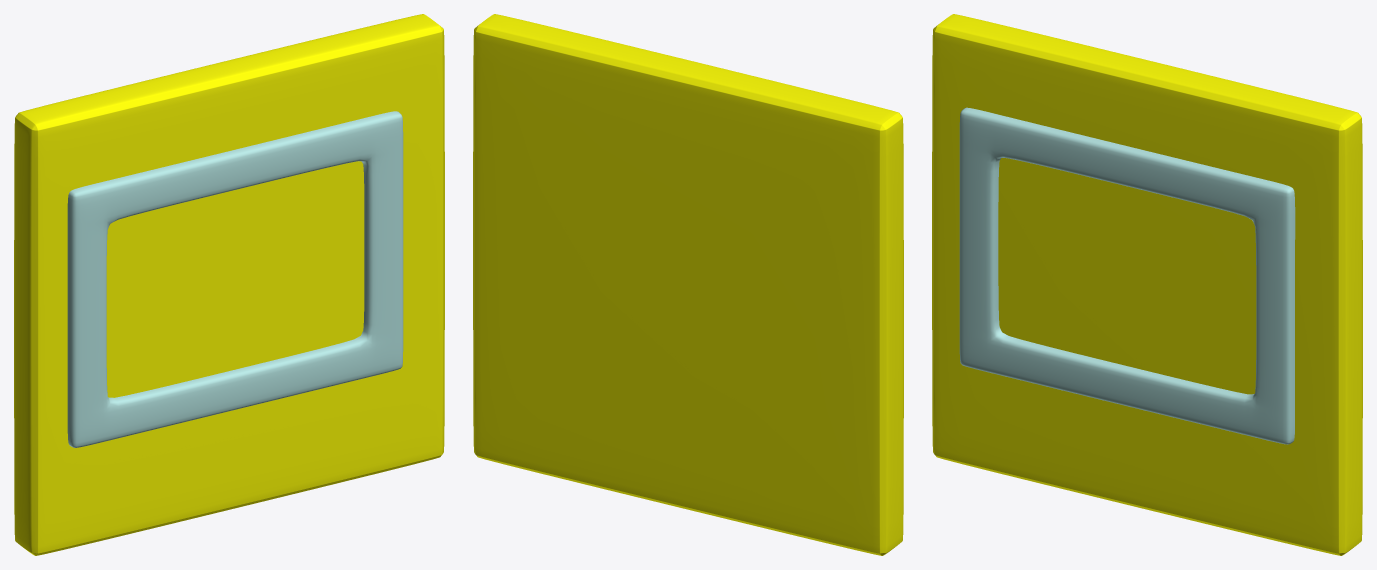
The picture shows the model from 3 angles, left to right: view 1: azimuth 30°, elevation 25°; view 2: azimuth 150°, elevation 25°; view 3: azimuth 330°, elevation 25°; orthographic projection.
Parts seen in each view (by area): view 1: polySurface1413; view 2: polySurface1413; view 3: polySurface1413.
Part boxes in pixels (box(x1,y1,x2,y2)): polySurface1413: box(14, 14, 444, 555); polySurface1413: box(473, 14, 903, 555); polySurface1413: box(932, 14, 1362, 555).
Size of the model in its own units: 0.9995 by 0.9995 by 0.1226.
